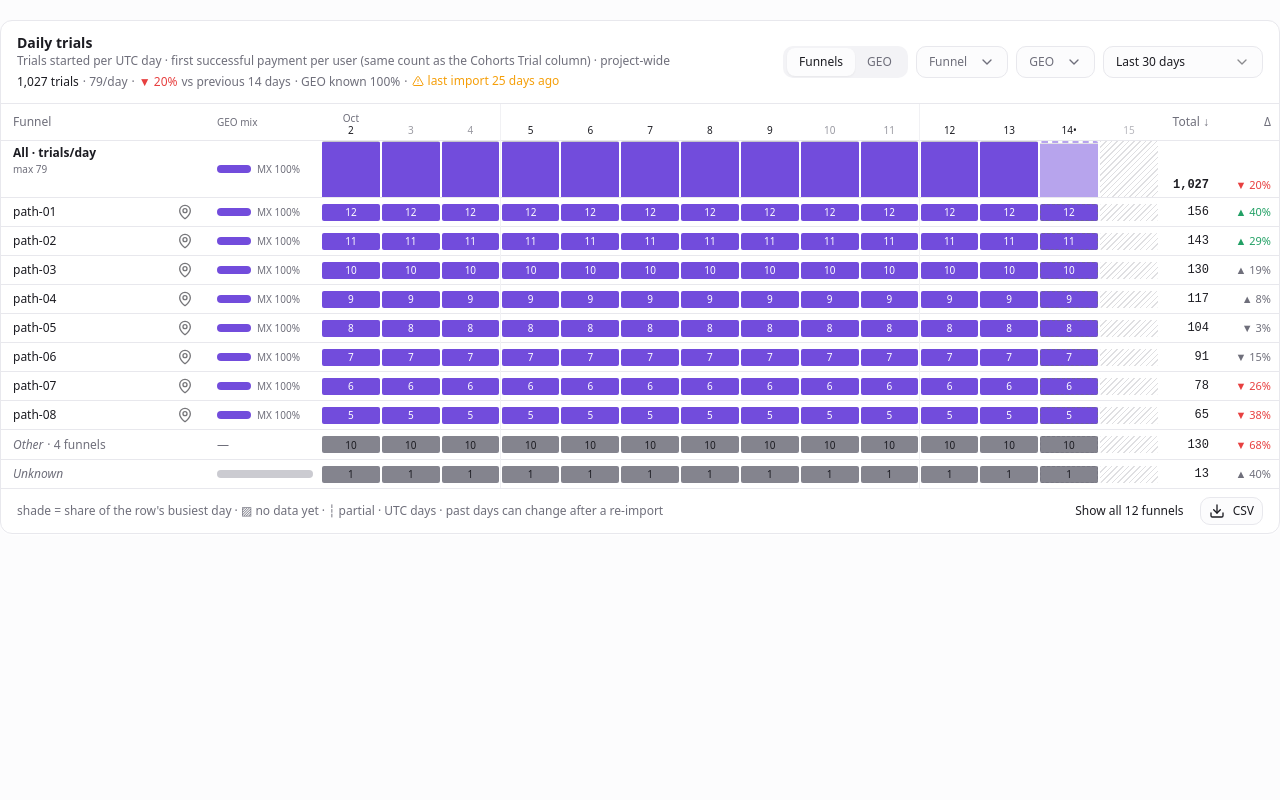
Test: TrialsDailySection › compact by default: the All row, 8 rows, Other and Unknown
The width and height of the screenshot is (1280, 800).
Expected: the text "path-01" is shown, [13,203,56,220]
Expected: the text "Other· 4 funnels" is shown, [13,436,106,452]
Expand on demand, inside the bounded scroll area.
Click the button "Show all 12 funnels" at (1129, 511), box [1067,497,1192,525]
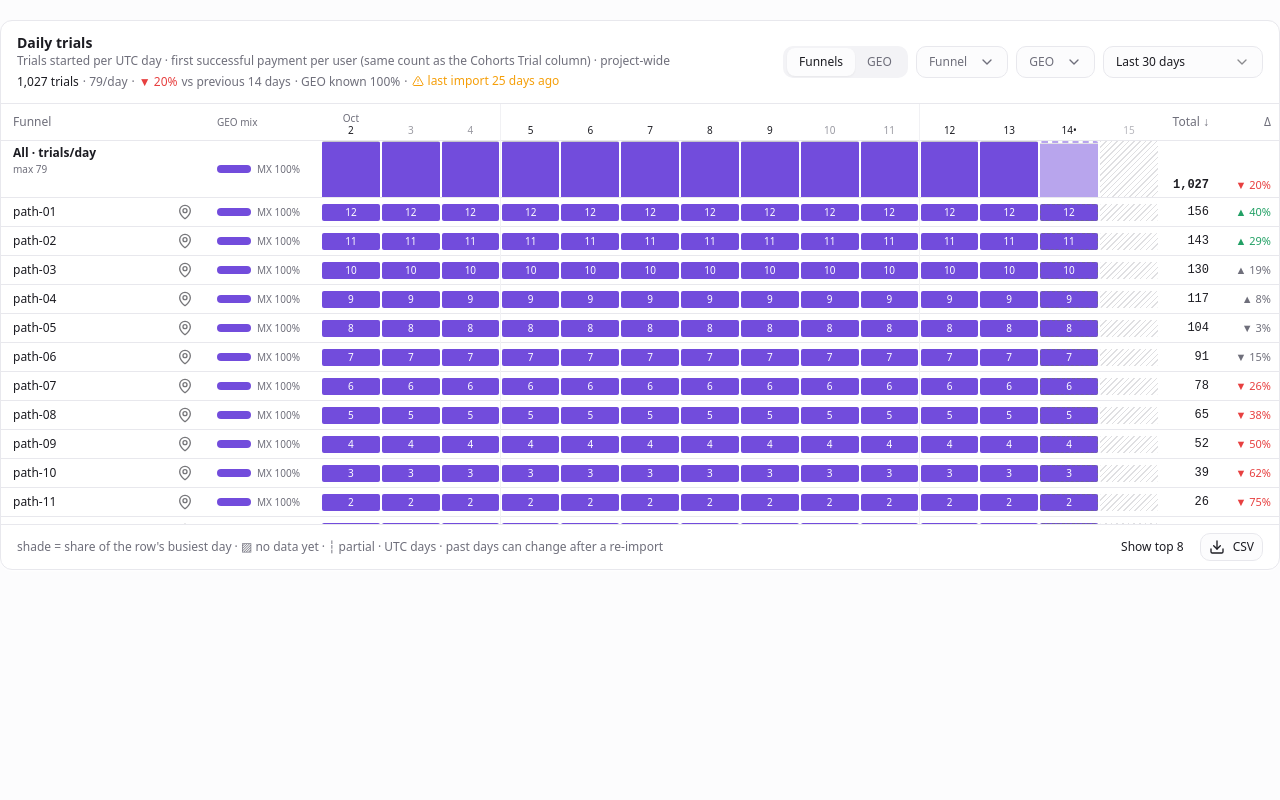
Expected: the button "Show top 8" is shown, [1113,533,1192,561]
